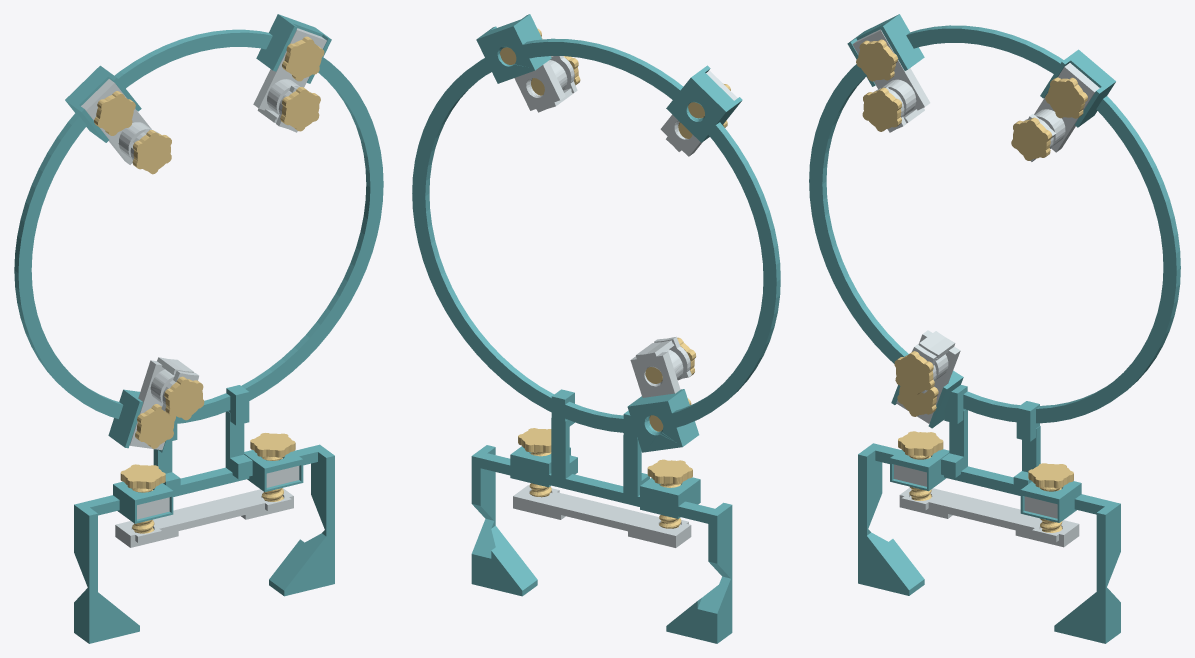
Rendered from carrier-v3.glb.
3 views of the same model, side by side, from view 1: azimuth 30°, elevation 25°; view 2: azimuth 150°, elevation 25°; view 3: azimuth 330°, elevation 25° (orthographic).
Parts seen in each view (by area): view 1: shared_frame, camera_pressure_bar, mic_shoe_1, mic_shoe_3, mic_shoe_2, mic_toe_screw_3, mic_toe_screw_1, mic_lock_screw_1, mic_toe_screw_2, mic_lock_screw_2, mic_lock_screw_3, camera_screw_1 (+1 smaller); view 2: shared_frame, camera_pressure_bar, mic_shoe_3, mic_shoe_1, camera_screw_1, camera_screw_2, mic_shoe_2; view 3: shared_frame, camera_pressure_bar, mic_shoe_2, mic_shoe_1, mic_shoe_3, mic_lock_screw_1, mic_lock_screw_2, mic_toe_screw_1, mic_toe_screw_2, mic_toe_screw_3, camera_screw_1, camera_screw_2 (+1 smaller).
Boxes of the visible parts, bbox=[...] form: shared_frame: bbox=[14, 14, 383, 643]; camera_pressure_bar: bbox=[115, 488, 293, 547]; mic_shoe_1: bbox=[253, 28, 326, 123]; mic_shoe_3: bbox=[129, 357, 194, 450]; mic_shoe_2: bbox=[81, 79, 151, 164]; mic_toe_screw_3: bbox=[164, 376, 204, 420]; mic_toe_screw_1: bbox=[280, 87, 320, 131]; mic_lock_screw_1: bbox=[282, 36, 324, 81]; mic_toe_screw_2: bbox=[132, 130, 171, 174]; mic_lock_screw_2: bbox=[94, 91, 135, 135]; mic_lock_screw_3: bbox=[135, 404, 175, 448]; camera_screw_1: bbox=[120, 464, 165, 533]; shared_frame: bbox=[412, 14, 780, 643]; camera_pressure_bar: bbox=[513, 485, 691, 547]; mic_shoe_3: bbox=[630, 340, 683, 397]; mic_shoe_1: bbox=[514, 60, 572, 112]; camera_screw_1: bbox=[647, 459, 692, 528]; camera_screw_2: bbox=[518, 428, 551, 497]; mic_shoe_2: bbox=[660, 70, 737, 156]; shared_frame: bbox=[809, 14, 1180, 643]; camera_pressure_bar: bbox=[899, 487, 1079, 547]; mic_shoe_2: bbox=[852, 29, 930, 123]; mic_shoe_1: bbox=[1034, 63, 1099, 152]; mic_shoe_3: bbox=[896, 330, 960, 423]; mic_lock_screw_1: bbox=[1045, 77, 1087, 118]; mic_lock_screw_2: bbox=[856, 39, 898, 81]; mic_toe_screw_1: bbox=[1011, 117, 1052, 160]; mic_toe_screw_2: bbox=[862, 87, 901, 131]; mic_toe_screw_3: bbox=[894, 351, 934, 395]; camera_screw_1: bbox=[898, 431, 943, 500]; camera_screw_2: bbox=[1028, 463, 1073, 532].
Bounding box in the file's own units: 0.152 × 0.2264 × 0.0265.
